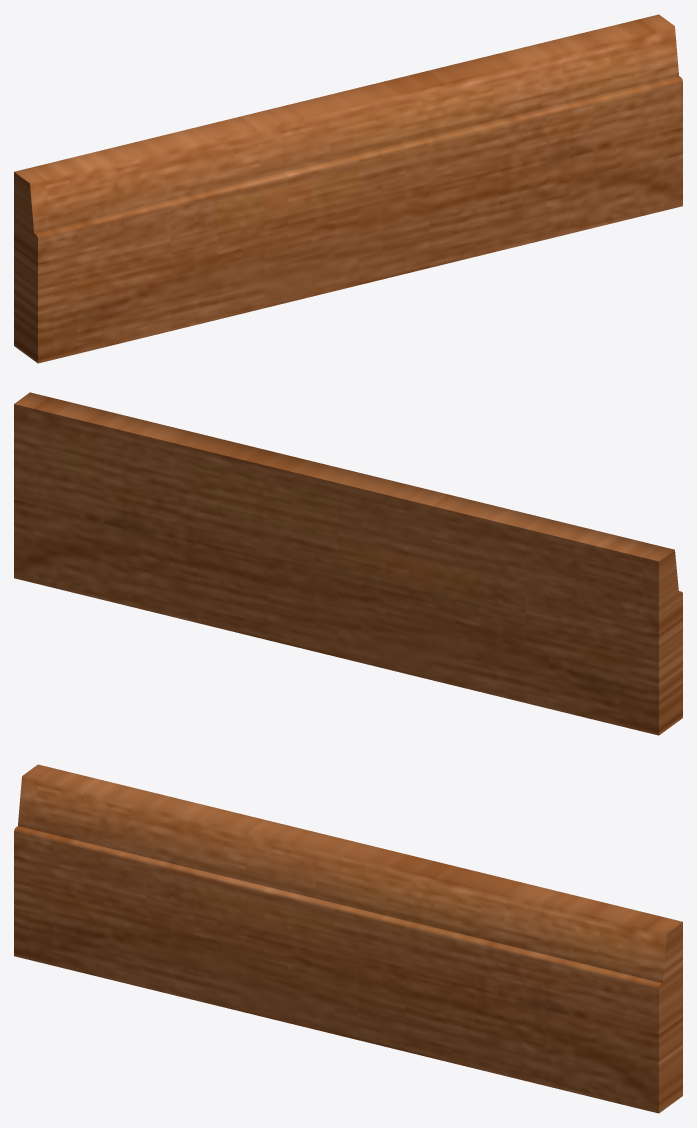
File: original-48.obj
3 renders of one model, top to bottom at view 1: azimuth 30°, elevation 25°; view 2: azimuth 150°, elevation 25°; view 3: azimuth 330°, elevation 25°, orthographic.
Parts seen in each view (by area): view 1: RT_11_B1/RT_11_B/mesh35/mesh35-geometry#mesh35-geometry; view 2: RT_11_B1/RT_11_B/mesh35/mesh35-geometry#mesh35-geometry; view 3: RT_11_B1/RT_11_B/mesh35/mesh35-geometry#mesh35-geometry.
Part boxes in pixels (x1=…): RT_11_B1/RT_11_B/mesh35/mesh35-geometry#mesh35-geometry: x1=14, y1=14, x2=682, y2=363; RT_11_B1/RT_11_B/mesh35/mesh35-geometry#mesh35-geometry: x1=14, y1=392, x2=682, y2=735; RT_11_B1/RT_11_B/mesh35/mesh35-geometry#mesh35-geometry: x1=14, y1=764, x2=682, y2=1113.
Size of the model in its own units: 0.3976 by 0.1026 by 0.0257.
1 material, 1 textured.
